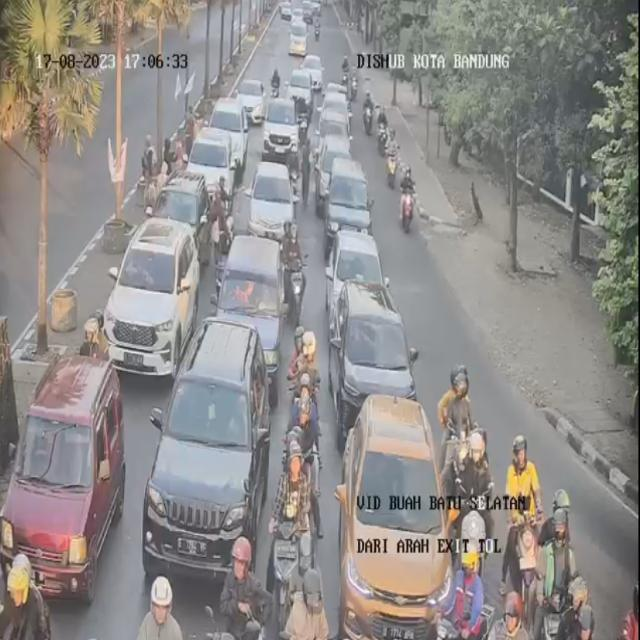cars: (149, 316, 272, 592), (5, 353, 130, 602), (341, 396, 454, 640), (110, 217, 200, 378), (331, 283, 414, 439), (215, 234, 291, 386), (328, 225, 387, 332), (324, 156, 374, 252), (159, 171, 209, 265), (249, 160, 297, 245), (192, 128, 239, 208), (211, 96, 249, 165), (265, 92, 299, 162), (317, 134, 351, 200), (237, 75, 267, 127), (286, 88, 316, 140), (316, 110, 351, 152), (322, 92, 350, 140), (288, 18, 312, 62), (290, 67, 318, 104), (302, 53, 325, 92)
motorcycle: (268, 444, 314, 630), (507, 434, 541, 610), (538, 488, 574, 638), (282, 383, 318, 530), (445, 512, 485, 640), (223, 534, 268, 639), (0, 544, 50, 637), (130, 575, 195, 640), (287, 324, 320, 443), (555, 561, 602, 640), (454, 430, 492, 525), (277, 222, 310, 322), (442, 364, 476, 448), (280, 590, 335, 640), (486, 586, 530, 640), (211, 179, 233, 245), (397, 169, 418, 237), (384, 130, 405, 192), (341, 57, 359, 102), (372, 104, 387, 148), (362, 90, 375, 132), (270, 61, 282, 100)
